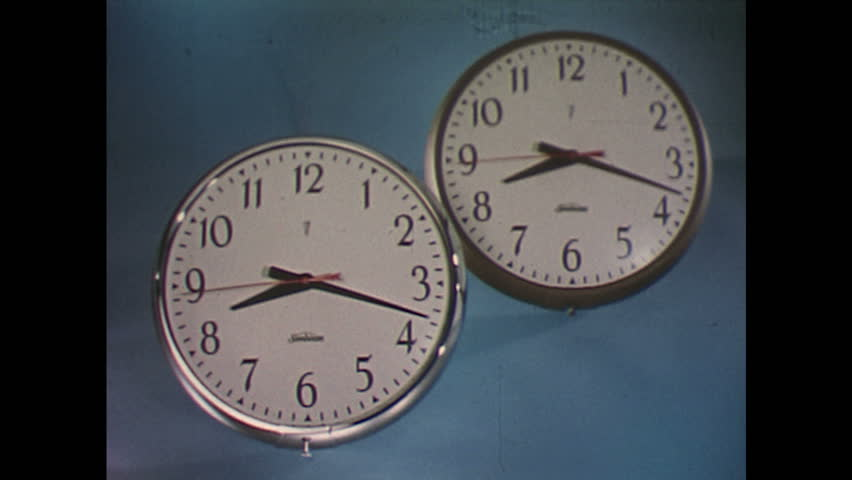clock: (166, 147, 454, 436), (448, 38, 703, 292)
